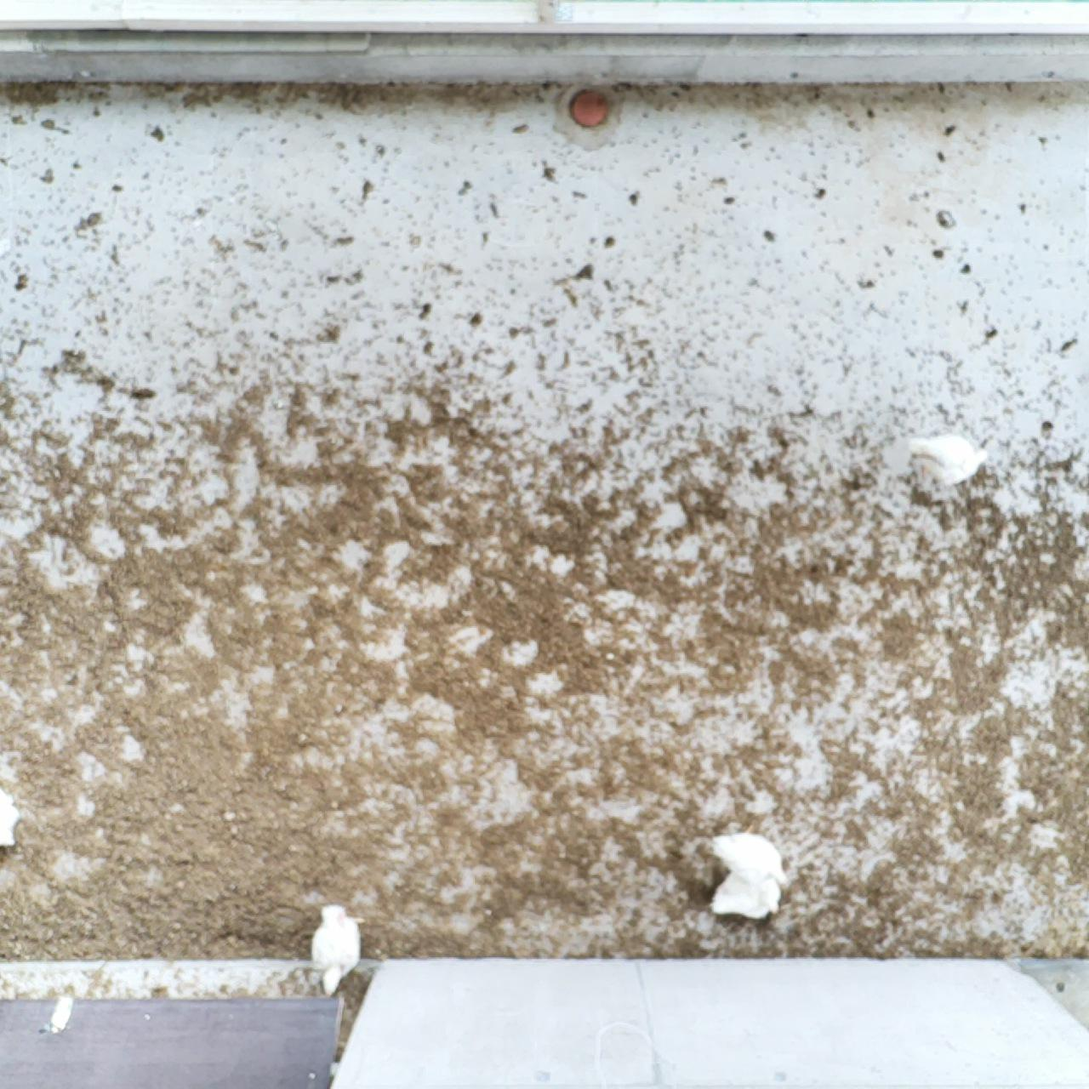chicken: (304, 895, 373, 1004), (708, 822, 794, 888), (910, 429, 995, 488), (706, 859, 789, 919), (0, 778, 30, 847)
